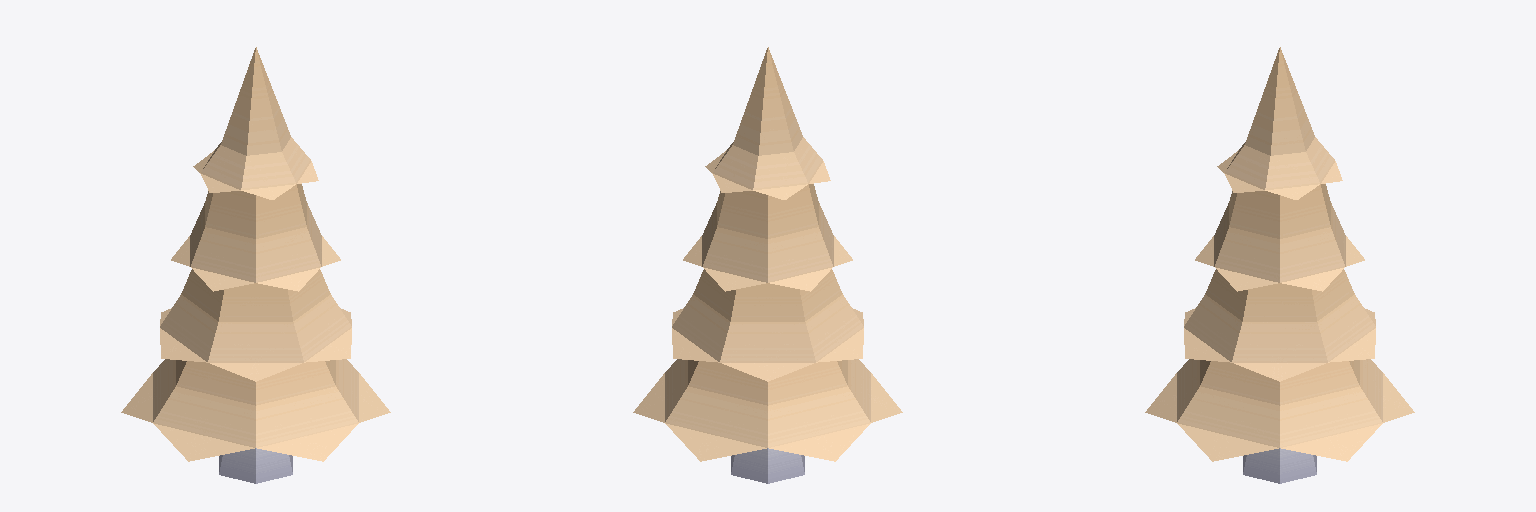
The picture shows the model from 3 angles: view 1: azimuth 30°, elevation 25°; view 2: azimuth 150°, elevation 25°; view 3: azimuth 270°, elevation 25°; orthographic projection.
Parts seen in each view (by area): view 1: pine.005; view 2: pine.005; view 3: pine.005.
Boxes of the visible parts, x1,y1,x2,y2 form: pine.005: [121, 47, 390, 483]; pine.005: [633, 47, 902, 483]; pine.005: [1145, 47, 1414, 483].
Size of the model in its own units: 2.89 by 5.61 by 3.27.
1 materials, 1 textured.